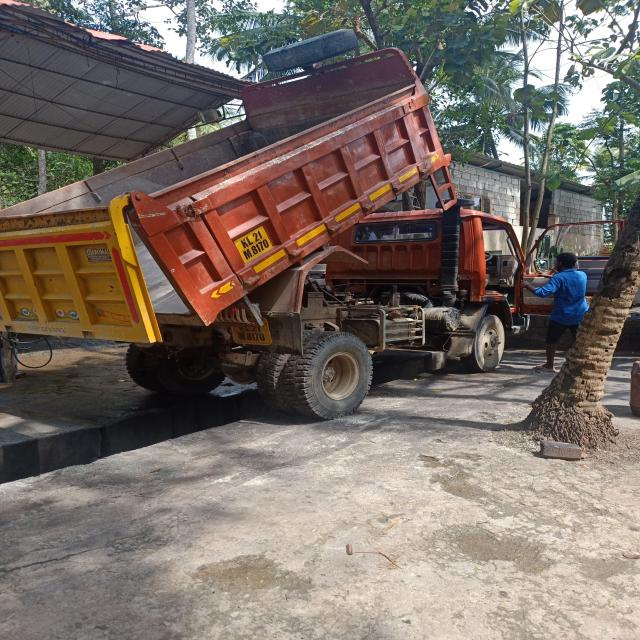Truck: (4, 42, 622, 405)
